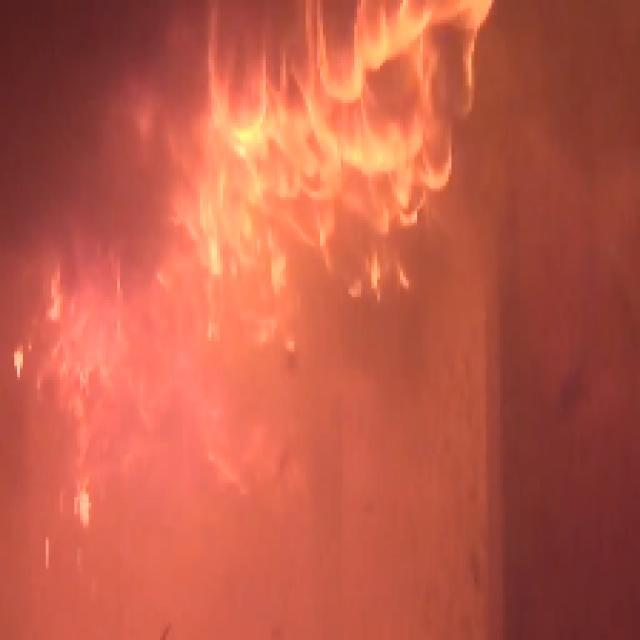Fire: (177, 6, 474, 306), (60, 294, 232, 514)
Smoke: (3, 8, 174, 274)
